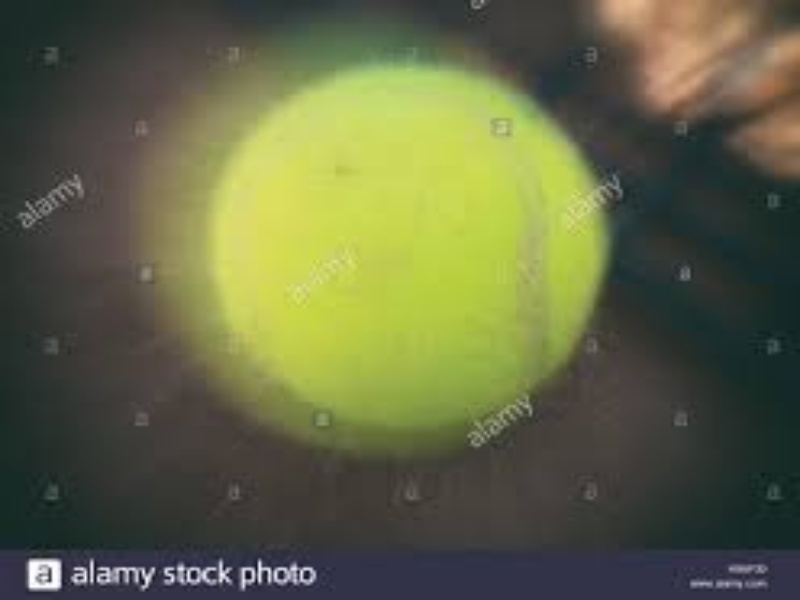tennis ball: (180, 49, 652, 492)
